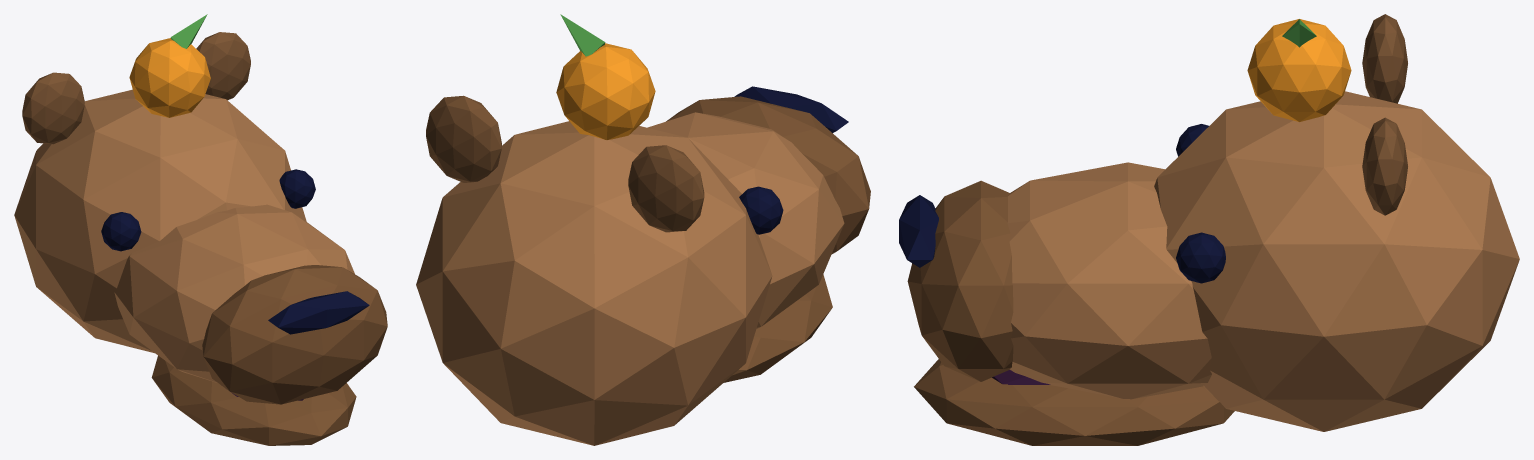
Rendered from capybara.glb.
The picture shows the model from 3 angles, left to right: view 1: azimuth 30°, elevation 25°; view 2: azimuth 150°, elevation 25°; view 3: azimuth 270°, elevation 25°; orthographic projection. The views are drawn at different scales.
Parts seen in each view (by area): view 1: cranium, snout, muzzle, jaw_fur, yuzu, ear_left, ear_right, nose, eye_left, eye_right, yuzu_leaf; view 2: cranium, snout, muzzle, yuzu, ear_left, ear_right, jaw_fur, nose, eye_left, yuzu_leaf; view 3: cranium, snout, muzzle, jaw_fur, yuzu, ear_right, ear_left, nose, eye_right.
Boxes of the visible parts, x1,y1,x2,y2 form: cranium: (14,89,306,353); snout: (114,204,354,382); muzzle: (202,265,387,404); jaw_fur: (151,355,356,445); yuzu: (129,38,210,117); ear_left: (22,72,84,144); ear_right: (196,32,250,100); nose: (268,291,369,334); eye_left: (101,212,141,251); eye_right: (279,169,315,208); yuzu_leaf: (170,14,207,48); cranium: (416,121,772,445); snout: (647,112,844,328); muzzle: (666,96,870,254); yuzu: (556,43,655,139); ear_left: (628,145,704,232); ear_right: (426,95,501,182); jaw_fur: (724,274,832,382); nose: (734,86,848,132); eye_left: (739,186,783,234); yuzu_leaf: (560,14,605,56); cranium: (1154,91,1519,431); snout: (1007,162,1211,399); muzzle: (907,180,1013,381); jaw_fur: (914,359,1234,445); yuzu: (1247,19,1351,121); ear_right: (1362,117,1407,215); ear_left: (1362,14,1407,103); nose: (899,195,938,267); eye_right: (1176,232,1225,283).
Bounding box in the file's own units: 0.6 × 0.7659 × 1.01.
